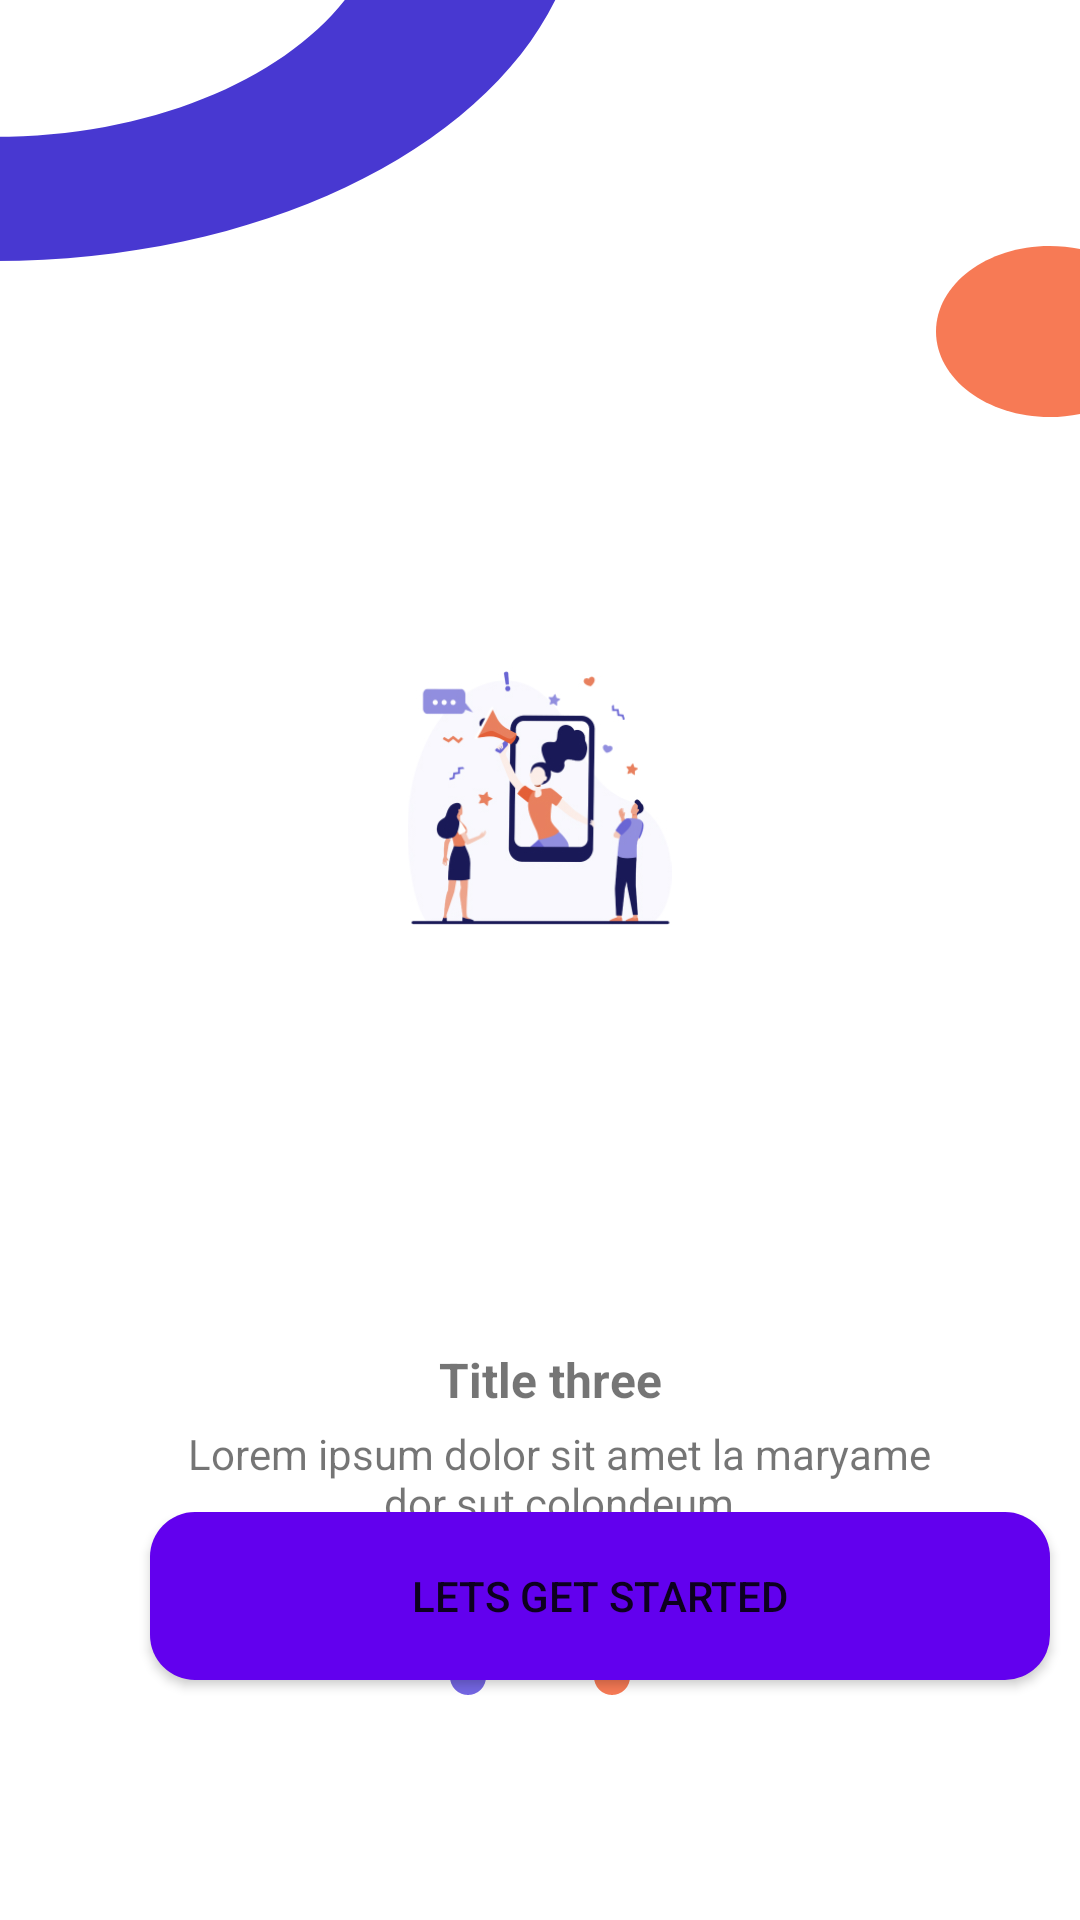

Point at icon controls on the screen. Image size 1080*1920, points as [x,y].
dot: [468,1677], [612,1677]
illustration: [540,798]
